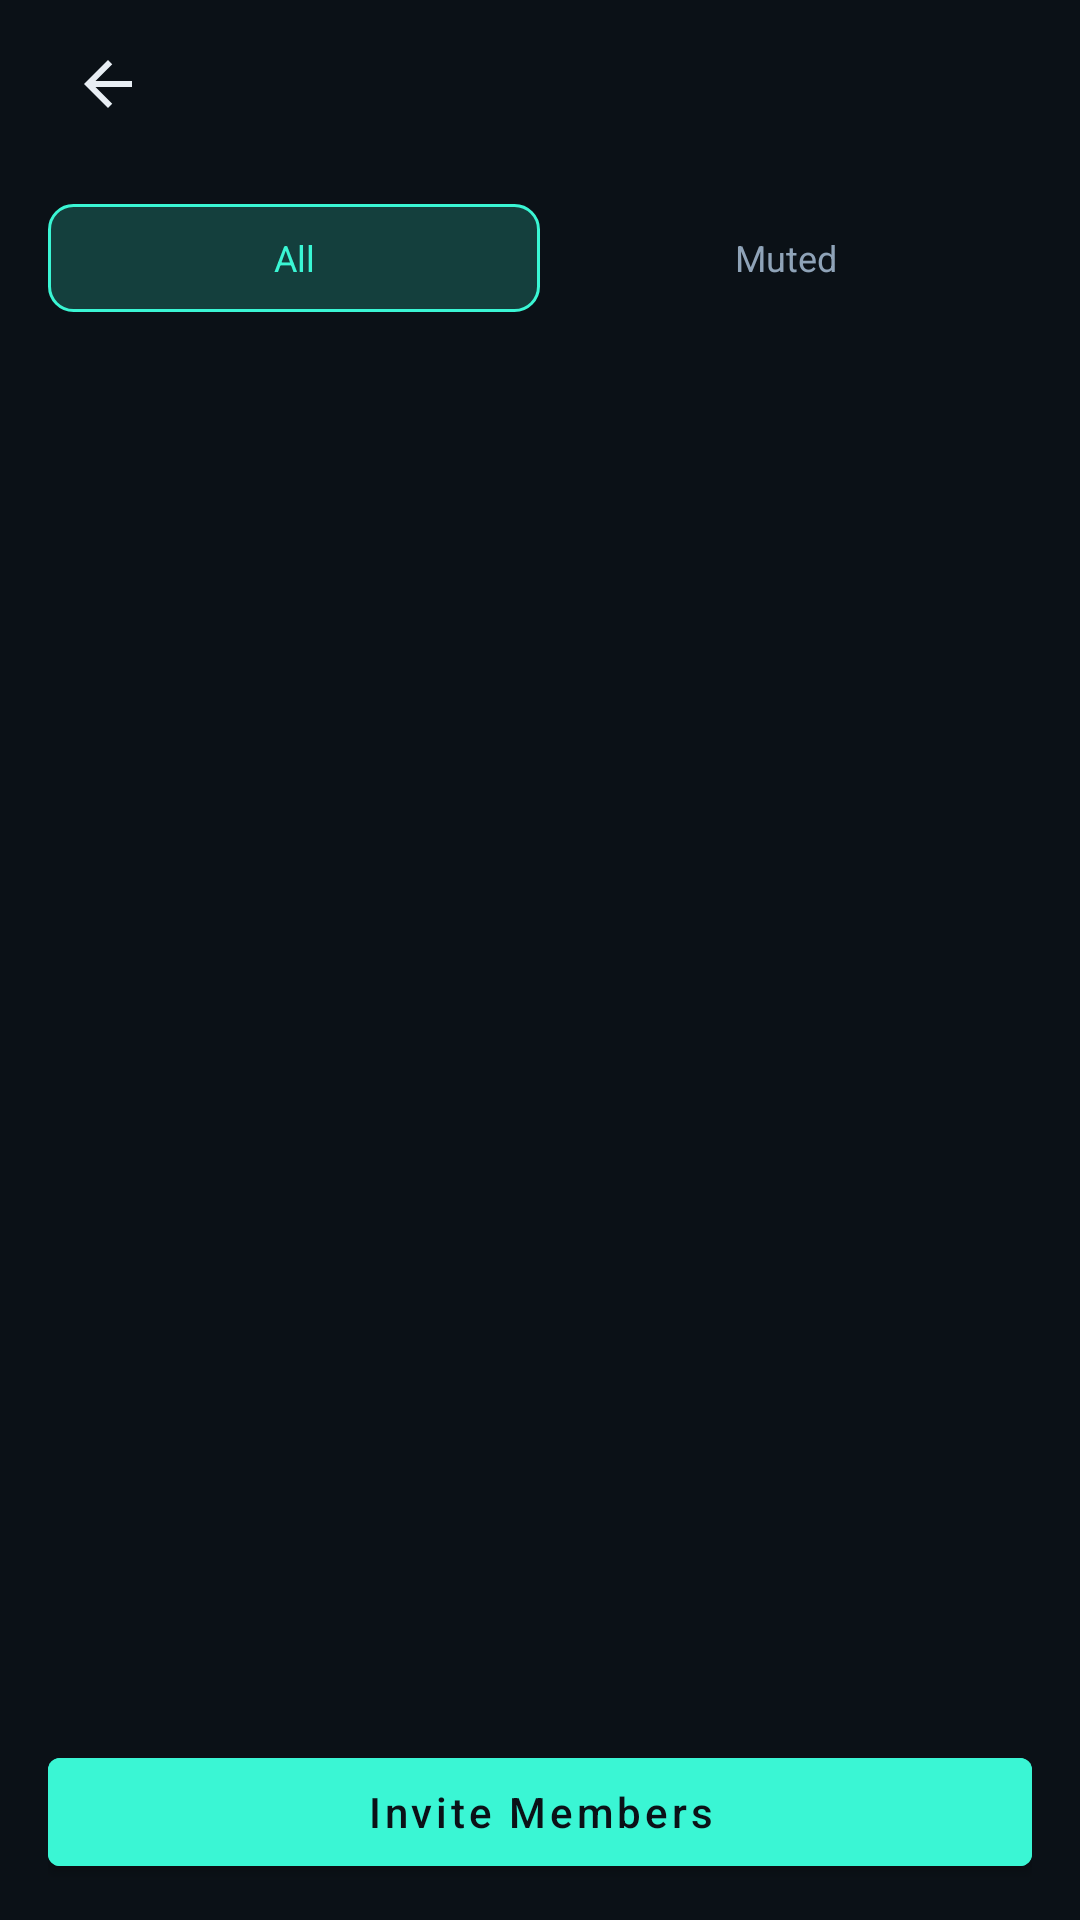

Named icons in this screenshot (1080w x 1920h) and their bounding boxes, (x1, y1, x2, y2):
Back: (84, 60, 132, 108)
